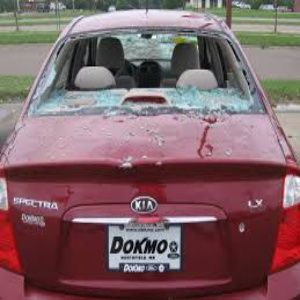rear_windshield_glass: (42, 41, 247, 119)
